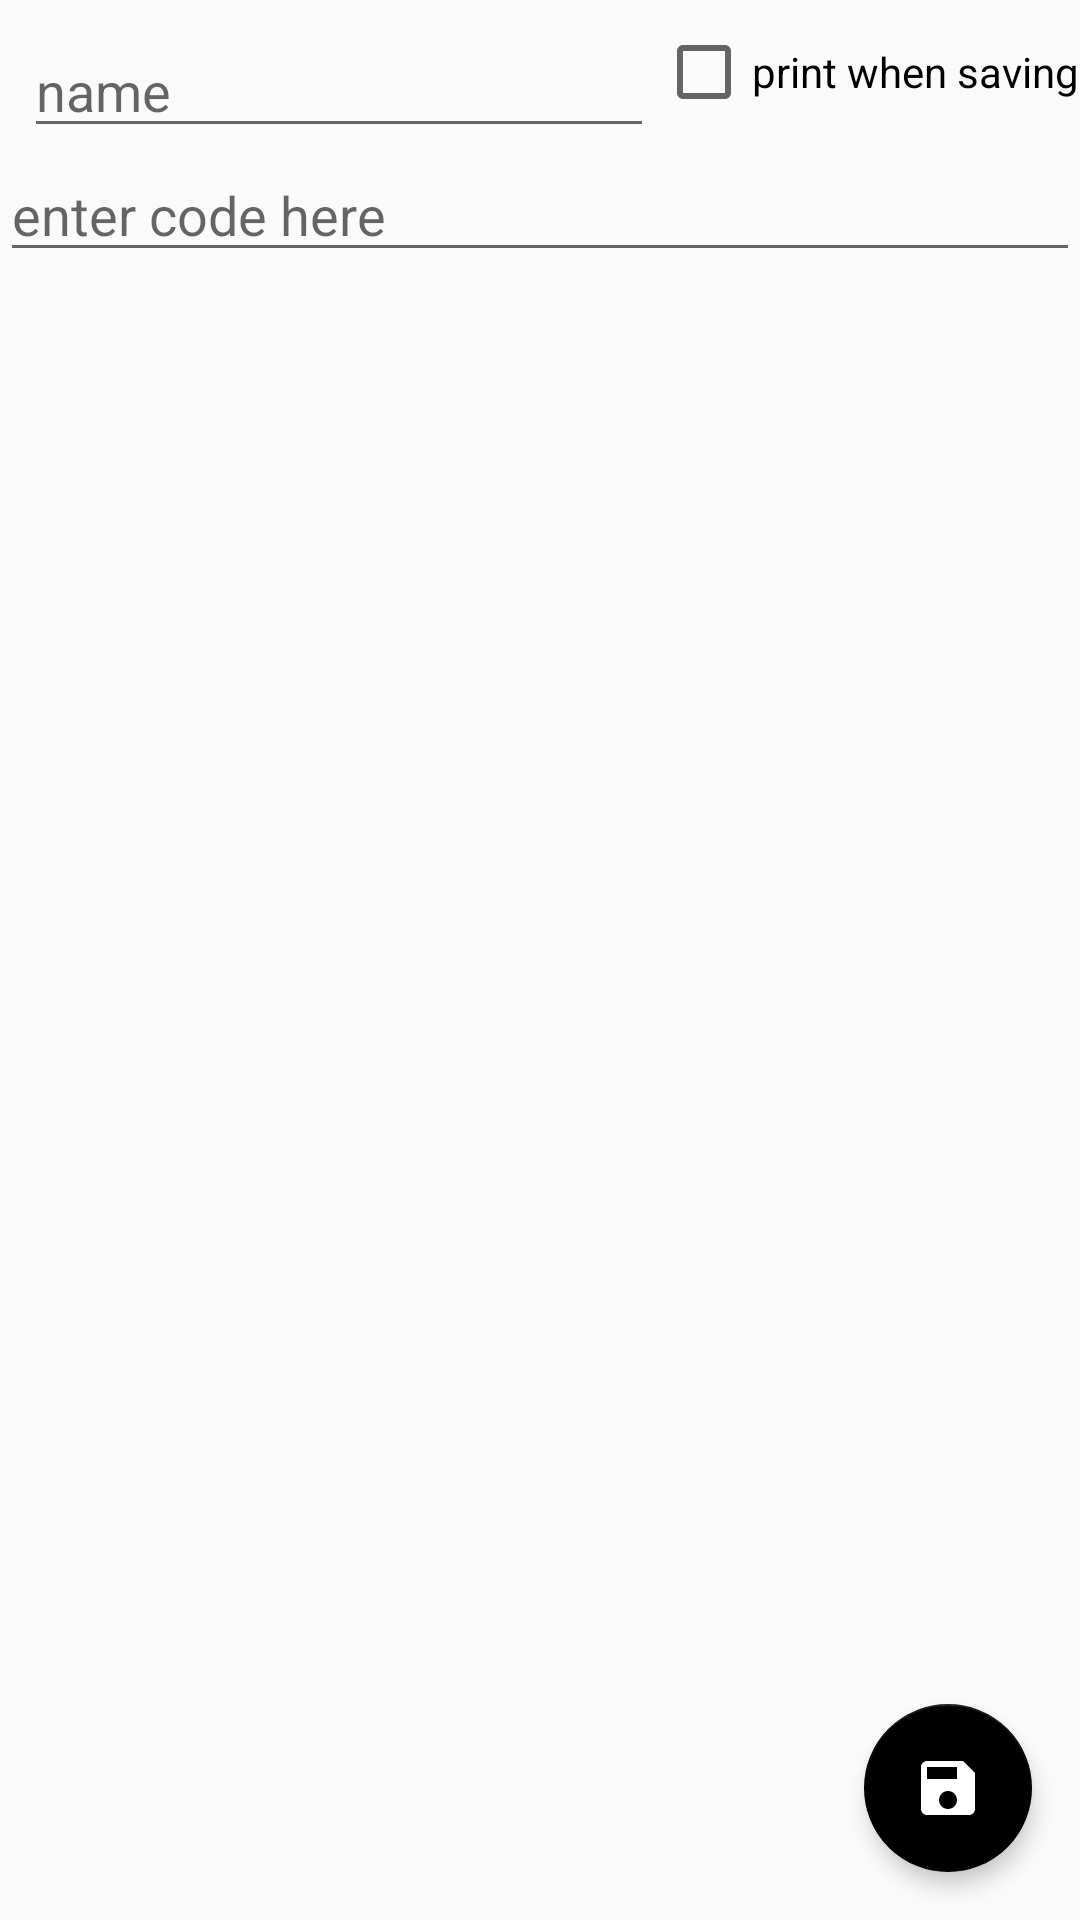

Point at icon controls on the screen. Image size 1080px×1920px, points as [x,y].
save: [948,1788]
